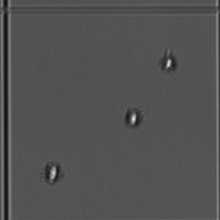Living Cell: (120, 101, 148, 131), (38, 159, 66, 185), (155, 50, 182, 74)
